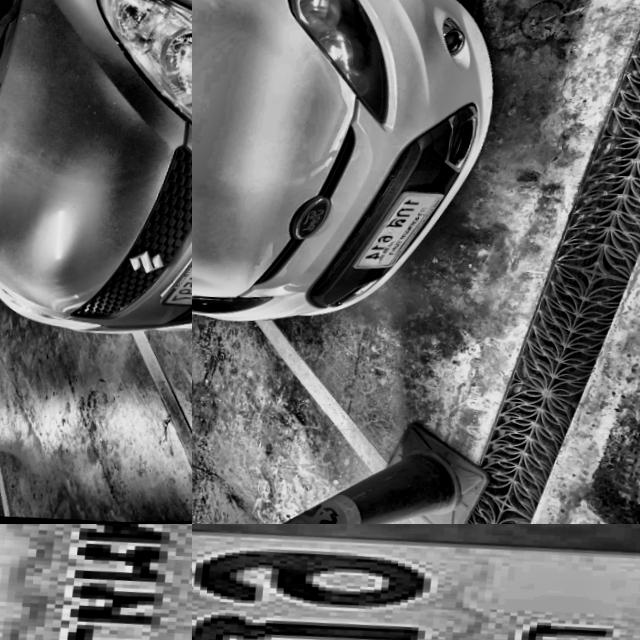license-plate: (192, 524, 640, 640), (0, 524, 192, 640), (350, 187, 453, 277), (159, 230, 192, 317)
